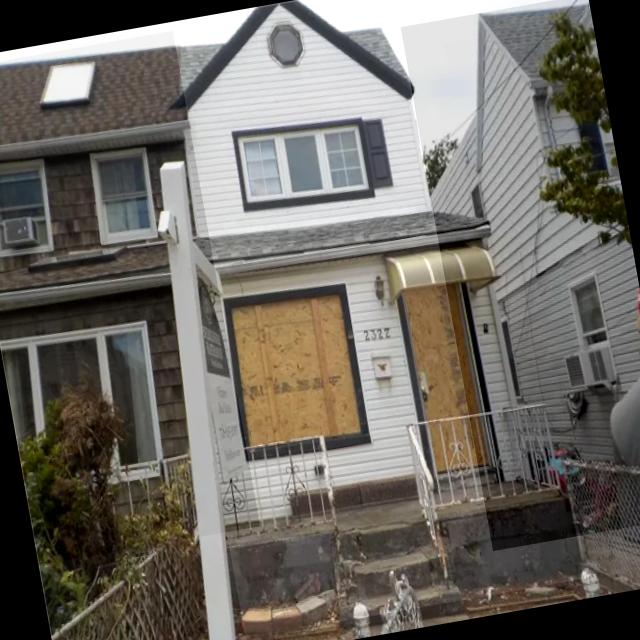House: (137, 0, 589, 637), (0, 30, 260, 564), (400, 0, 640, 550)
